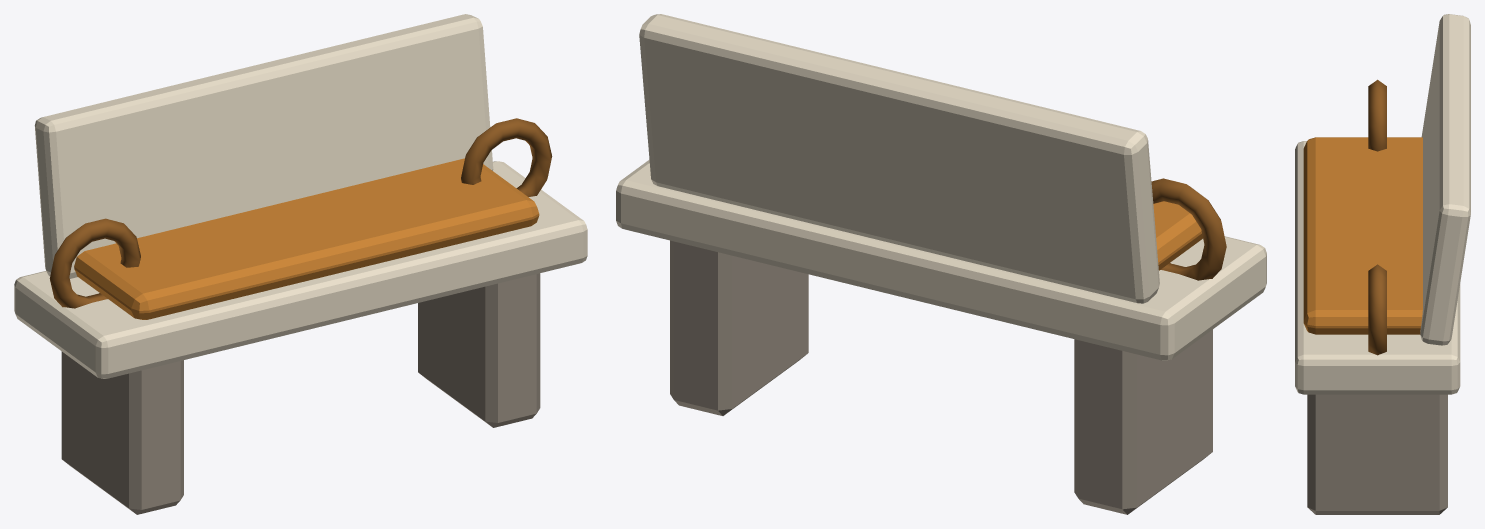
The model's file is decor_courtyard_bench_LOD0.glb.
3 renders of one model, left to right at view 1: azimuth 30°, elevation 25°; view 2: azimuth 150°, elevation 25°; view 3: azimuth 270°, elevation 25°, orthographic. The views are drawn at different scales.
Visible parts, largest first — view 1: decor_courtyard_bench_LOD0; view 2: decor_courtyard_bench_LOD0; view 3: decor_courtyard_bench_LOD0.
Part boxes in pixels (x1=…): decor_courtyard_bench_LOD0: x1=14, y1=14, x2=587, y2=514; decor_courtyard_bench_LOD0: x1=616, y1=14, x2=1266, y2=514; decor_courtyard_bench_LOD0: x1=1295, y1=14, x2=1470, y2=514.
Bounding box in the file's own units: 2.2 × 1.44 × 0.724.
